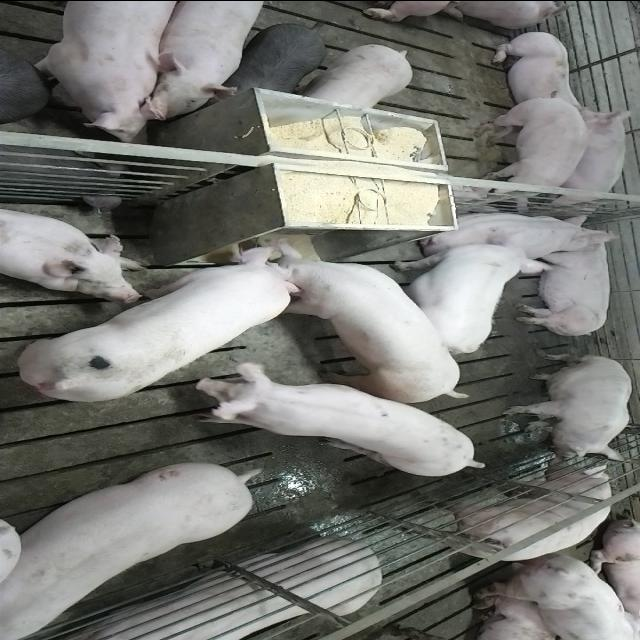Feeding: (15, 240, 305, 404), (258, 240, 472, 408)
Lateral_lying: (512, 223, 622, 338)
Sitting: (502, 354, 634, 461)
Standing: (0, 458, 258, 634), (180, 364, 488, 479), (24, 2, 190, 140), (405, 460, 614, 560), (388, 240, 551, 355), (137, 2, 274, 118), (478, 553, 640, 640), (465, 92, 585, 206), (213, 21, 329, 96), (297, 42, 413, 110), (0, 37, 49, 124)
Sternal_lying: (48, 540, 380, 640), (0, 204, 146, 298), (411, 206, 604, 258), (486, 29, 600, 116)
